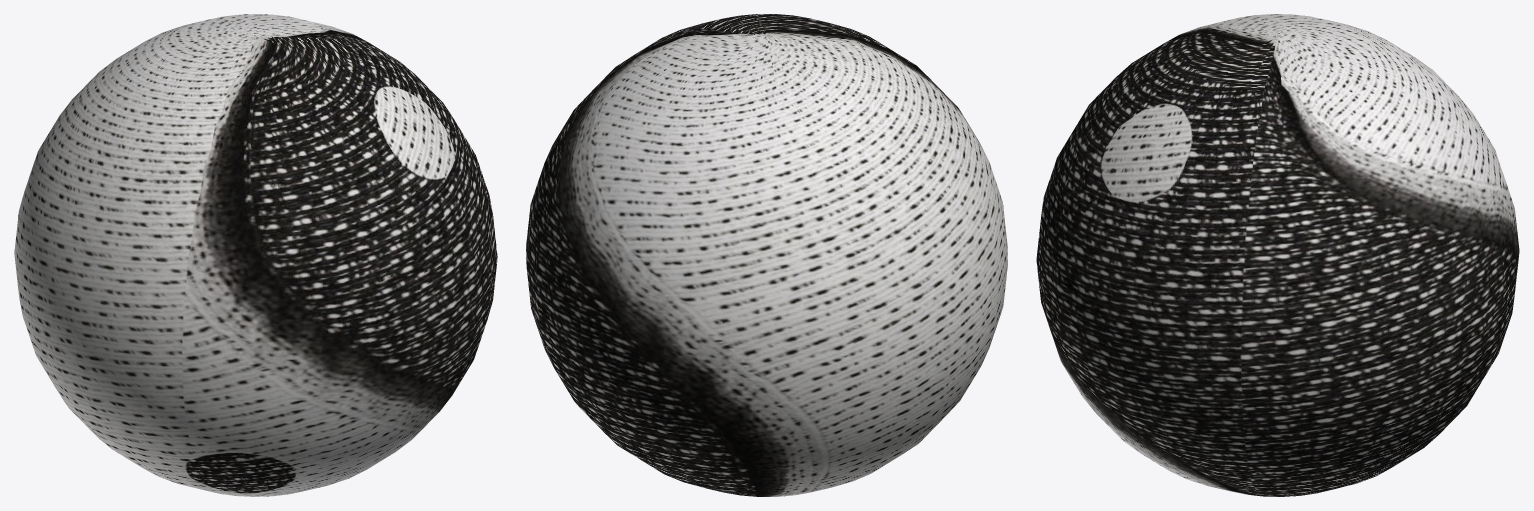
The model's file is yinyang.obj.
The picture shows the model from 3 angles, left to right: view 1: azimuth 30°, elevation 25°; view 2: azimuth 150°, elevation 25°; view 3: azimuth 270°, elevation 25°; orthographic projection.
Parts seen in each view (by area): view 1: yinyang_Sphere.001; view 2: yinyang_Sphere.001; view 3: yinyang_Sphere.001.
Part boxes in pixels (x1,y1,x2,y2): yinyang_Sphere.001: (14, 14, 497, 496); yinyang_Sphere.001: (526, 14, 1007, 496); yinyang_Sphere.001: (1036, 14, 1519, 496).
Bounding box in the file's own units: 2 × 2 × 2.
